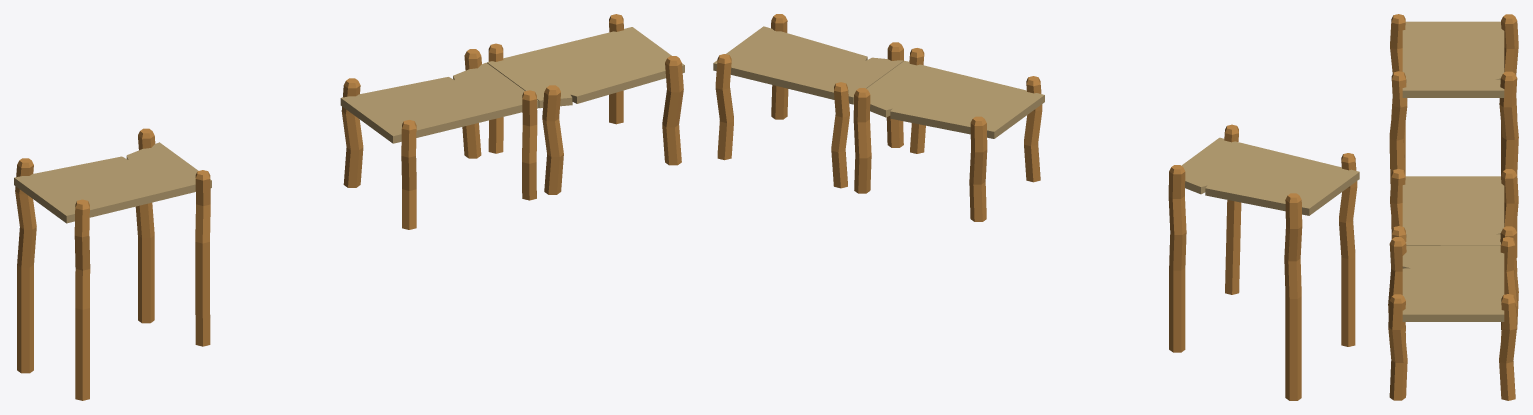
The model's file is deck.fbx.
3 renders of one model, left to right at view 1: azimuth 30°, elevation 25°; view 2: azimuth 150°, elevation 25°; view 3: azimuth 270°, elevation 25°, orthographic. The views are drawn at different scales.
Parts seen in each view (by area): view 1: Plane.001, Plane.002, Plane.003, Cylinder.015, Cylinder.017, Cylinder.016, Cylinder.014, Cylinder.007, Cylinder.006, Cylinder.013, Cylinder.012, Cylinder.011 (+3 smaller); view 2: Plane.003, Plane.002, Plane.001, Cylinder.015, Cylinder.014, Cylinder.017, Cylinder.010, Cylinder.011, Cylinder.016, Cylinder.009, Cylinder.008, Cylinder.013 (+3 smaller); view 3: Plane.003, Plane.001, Plane.002, Cylinder.007, Cylinder.014, Cylinder.009, Cylinder.016, Cylinder.015, Cylinder.011, Cylinder.006, Cylinder.017, Cylinder.008 (+3 smaller).
Boxes of the visible parts, left/top/right/bottom form: Plane.001: left=487, top=27, right=684, bottom=108; Plane.002: left=340, top=62, right=538, bottom=143; Plane.003: left=14, top=142, right=211, bottom=223; Cylinder.015: left=15, top=158, right=36, bottom=373; Cylinder.017: left=74, top=199, right=90, bottom=400; Cylinder.016: left=195, top=170, right=210, bottom=346; Cylinder.014: left=135, top=128, right=155, bottom=323; Cylinder.007: left=662, top=56, right=683, bottom=165; Cylinder.006: left=542, top=85, right=563, bottom=194; Cylinder.013: left=401, top=120, right=416, bottom=229; Cylinder.012: left=522, top=90, right=537, bottom=200; Cylinder.011: left=341, top=78, right=363, bottom=187; Plane.003: left=1181, top=137, right=1359, bottom=215; Plane.002: left=866, top=60, right=1044, bottom=138; Plane.001: left=713, top=26, right=903, bottom=104; Cylinder.015: left=1284, top=193, right=1302, bottom=400; Cylinder.014: left=1168, top=165, right=1186, bottom=352; Cylinder.017: left=1339, top=153, right=1357, bottom=346; Cylinder.010: left=853, top=88, right=871, bottom=193; Cylinder.011: left=969, top=116, right=987, bottom=221; Cylinder.016: left=1224, top=124, right=1241, bottom=294; Cylinder.009: left=715, top=54, right=733, bottom=160; Cylinder.008: left=831, top=82, right=849, bottom=188; Cylinder.013: left=1024, top=76, right=1042, bottom=182; Plane.003: left=1402, top=21, right=1504, bottom=97; Plane.001: left=1402, top=245, right=1504, bottom=321; Plane.002: left=1402, top=176, right=1504, bottom=245; Cylinder.007: left=1388, top=294, right=1407, bottom=400; Cylinder.014: left=1499, top=71, right=1518, bottom=257; Cylinder.009: left=1499, top=294, right=1516, bottom=400; Cylinder.016: left=1389, top=71, right=1407, bottom=238; Cylinder.015: left=1501, top=14, right=1518, bottom=166; Cylinder.011: left=1501, top=169, right=1518, bottom=272; Cylinder.006: left=1388, top=237, right=1406, bottom=339; Cylinder.017: left=1390, top=14, right=1405, bottom=173; Cylinder.008: left=1500, top=236, right=1517, bottom=339.
Bounding box in the file's own units: 1716 × 557 × 324.
